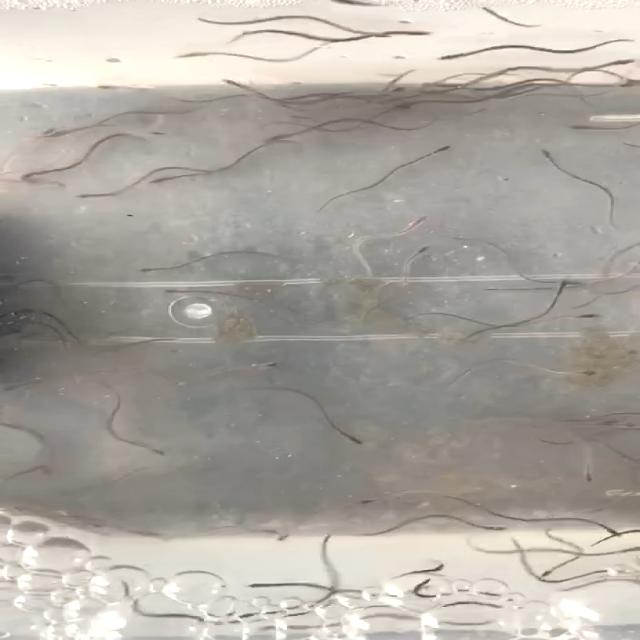active_glass_eel: (434, 43, 484, 65), (15, 168, 64, 188), (424, 136, 458, 164), (477, 520, 524, 540), (591, 58, 640, 76), (398, 210, 442, 230), (126, 445, 169, 465), (234, 578, 276, 598), (546, 279, 582, 302), (392, 246, 442, 262), (526, 564, 569, 582), (562, 469, 610, 485), (370, 27, 450, 36), (100, 529, 160, 541), (361, 494, 393, 516), (331, 432, 374, 448), (130, 264, 172, 280), (558, 120, 594, 138), (554, 366, 594, 382), (334, 36, 396, 46), (254, 130, 288, 148), (246, 361, 282, 378), (532, 148, 556, 172), (259, 532, 291, 550), (166, 49, 212, 59), (41, 128, 72, 141), (152, 170, 172, 190), (84, 190, 112, 204), (155, 287, 183, 301), (586, 416, 617, 428), (225, 80, 262, 90), (600, 522, 624, 536), (396, 81, 418, 96), (614, 419, 636, 433), (386, 102, 414, 112), (102, 82, 124, 94), (40, 462, 58, 476), (462, 86, 504, 90)
